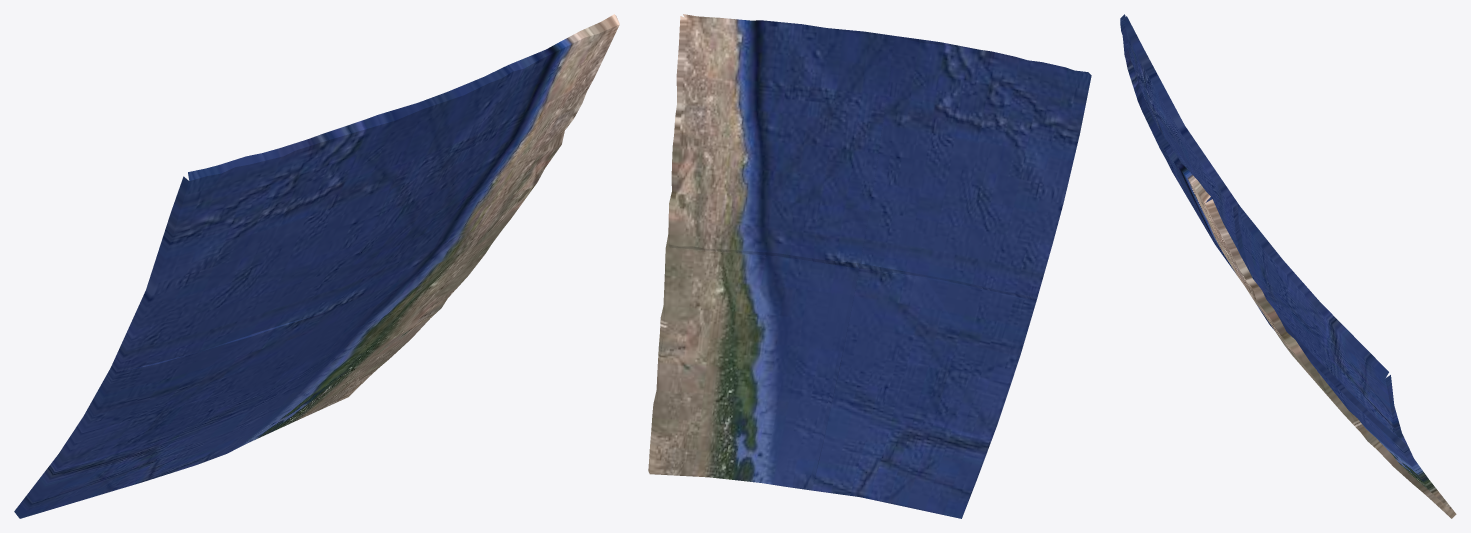
3 renders of one model, left to right at view 1: azimuth 30°, elevation 25°; view 2: azimuth 150°, elevation 25°; view 3: azimuth 270°, elevation 25°, orthographic. The views are drawn at different scales.
Size of the model in its own units: 2286952 by 2102689 by 1755554.
Materials: 1 (1 with a texture image).
